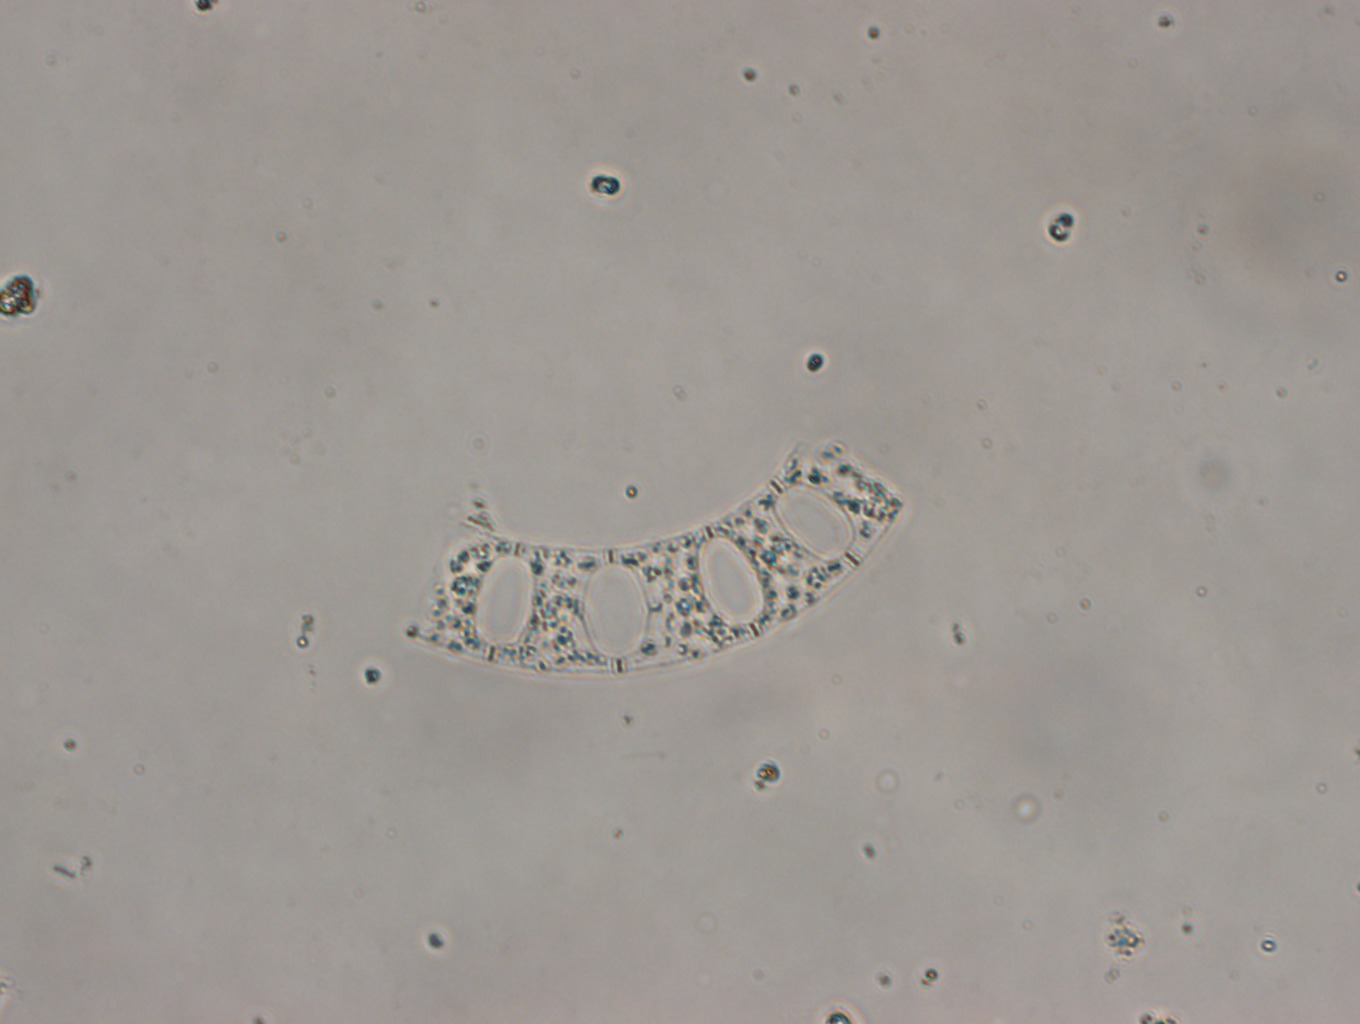eucampia: (401, 431, 910, 678)
